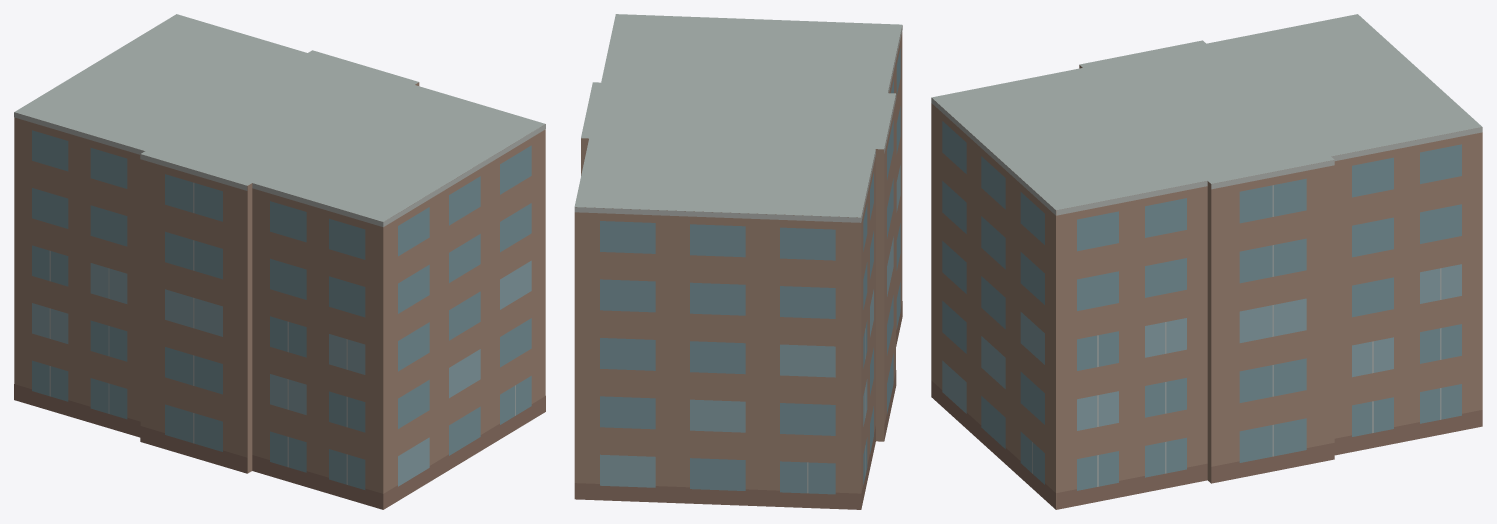
File: survey-upis-32611549.glb
3 views of the same model, side by side, from view 1: azimuth 30°, elevation 25°; view 2: azimuth 150°, elevation 25°; view 3: azimuth 270°, elevation 25° (orthographic). The views are drawn at different scales.
Parts seen in each view (by area): view 1: survey-upis-32611549.tmp; view 2: survey-upis-32611549.tmp; view 3: survey-upis-32611549.tmp.
Part boxes in pixels (x1=…): survey-upis-32611549.tmp: x1=14, y1=14, x2=545, y2=509; survey-upis-32611549.tmp: x1=574, y1=14, x2=902, y2=509; survey-upis-32611549.tmp: x1=931, y1=14, x2=1482, y2=509.
Size of the model in its own units: 18.99 by 13.5 by 22.52.
